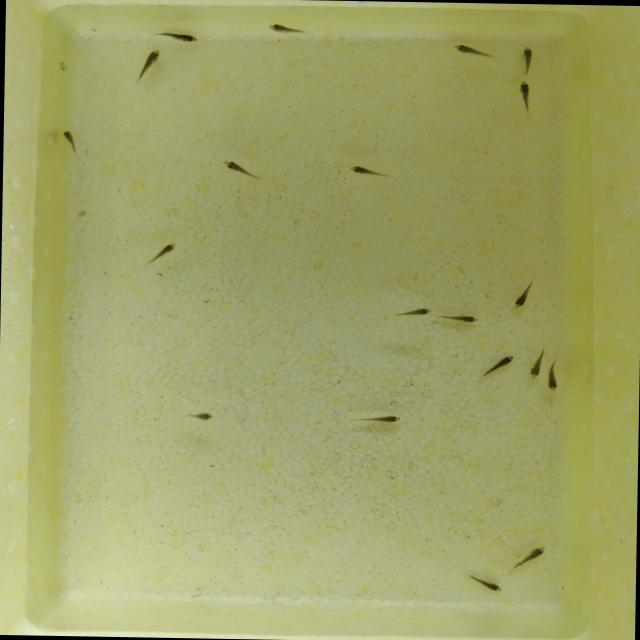fingerling: (446, 41, 496, 62), (462, 574, 509, 594), (504, 80, 536, 109), (216, 157, 258, 179), (344, 160, 388, 180), (481, 351, 516, 375), (512, 543, 546, 567), (516, 42, 540, 76), (158, 29, 200, 47), (381, 306, 438, 319), (262, 20, 304, 36), (508, 282, 530, 312), (59, 128, 82, 153), (145, 46, 163, 77), (544, 364, 562, 393), (151, 241, 176, 261), (528, 349, 544, 380), (437, 313, 479, 324), (360, 414, 400, 425), (180, 411, 212, 422)
